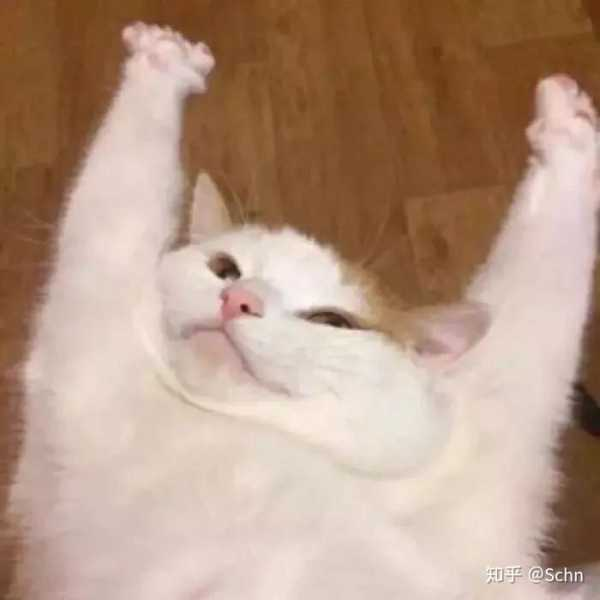cat: (156, 202, 481, 494)
